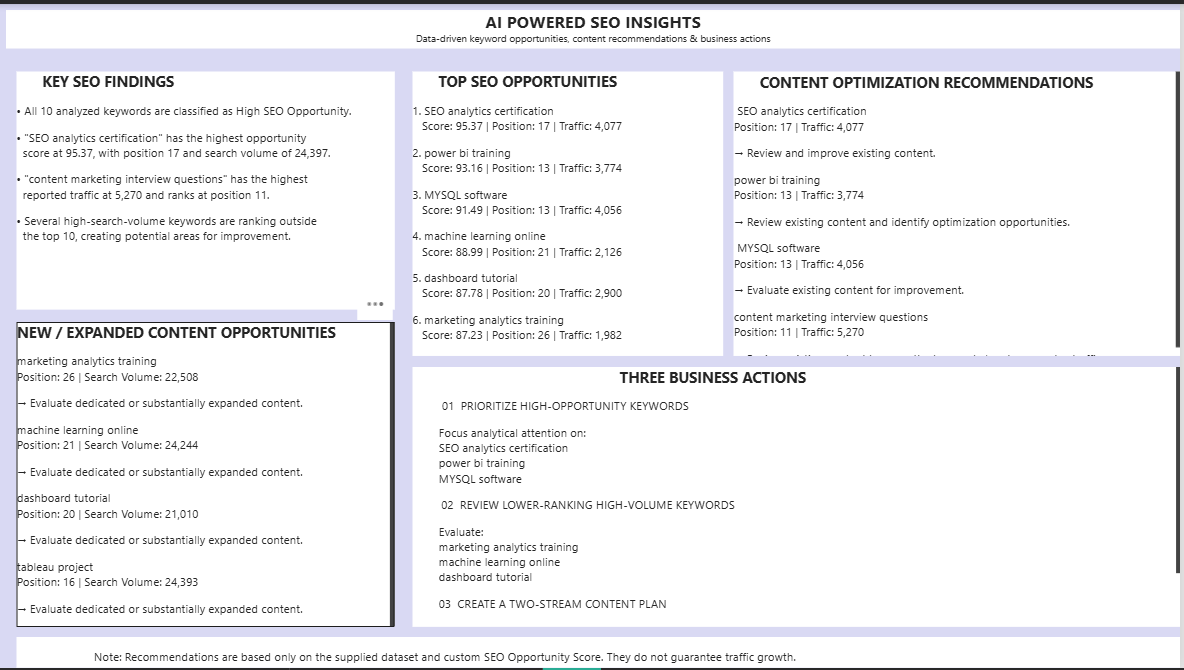

What the dashboard file says about the page in this screenshot:
{"tool":"powerbi","page":{"name":"AI powered SEO insight","canvas":[1920,1080],"ordinal":1},"visuals":[{"type":"textbox","box":[10,10,1910,62.5],"z":0},{"type":"textbox","box":[27.5,110,615,387.5],"z":1},{"type":"textbox","box":[670,110,505,462.5],"z":2},{"type":"textbox","box":[1192.5,110,727.5,462.5],"z":3},{"type":"textbox","box":[27.5,517.5,615,495],"z":4},{"type":"textbox","box":[670,590,1250,422.5],"z":5},{"type":"textbox","box":[27.5,1030,1892.5,50],"z":6}]}

Visuals, with their boxes in screenshot pixels (x1, y1, x2, y2), scaled from the page's 1920x1080 canvas onto the 1184x670 screenshot:
textbox: left=6, top=6, right=1183, bottom=45
textbox: left=17, top=68, right=396, bottom=309
textbox: left=413, top=68, right=725, bottom=355
textbox: left=735, top=68, right=1183, bottom=355
textbox: left=17, top=321, right=396, bottom=628
textbox: left=413, top=366, right=1183, bottom=628
textbox: left=17, top=639, right=1183, bottom=669
